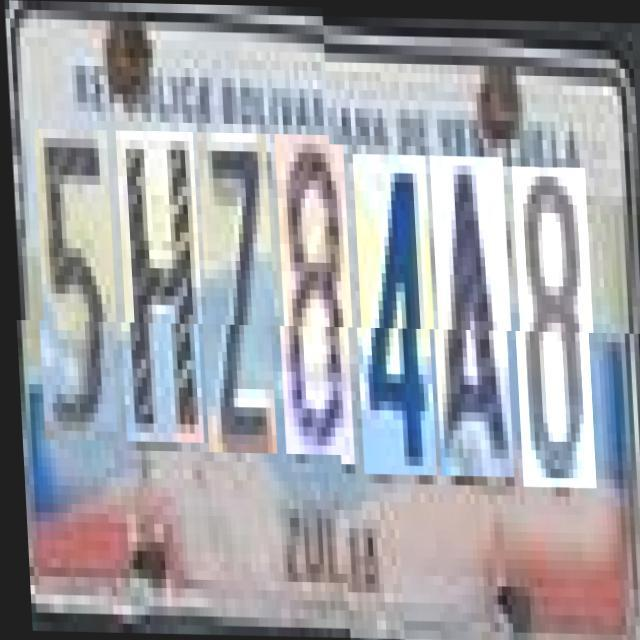4: (351, 152, 437, 474)
5: (33, 138, 118, 450)
8: (510, 164, 596, 486), (274, 142, 354, 463)
A: (428, 154, 514, 475)
H: (114, 139, 204, 451)
Z: (196, 140, 277, 462)
